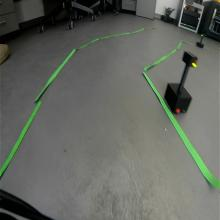green: (182, 50, 199, 69)
